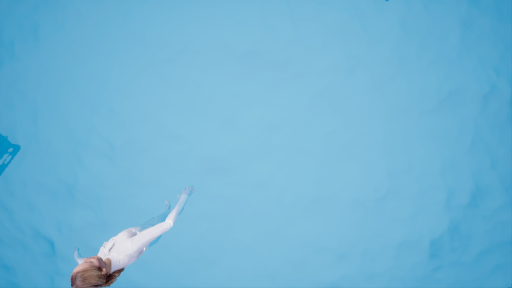person: (61, 183, 198, 286)
